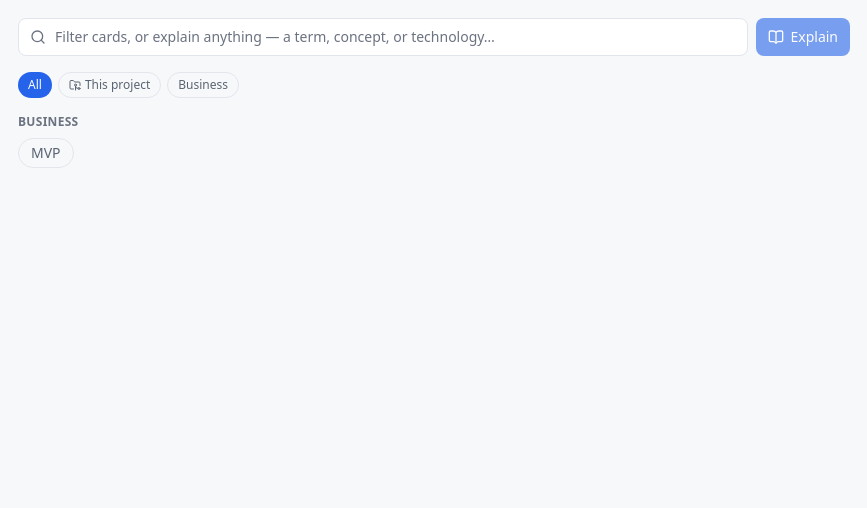
Test case: UnderstandHub › explains a cold term and shows the new card
Expected: the button "MVP" is shown, [18,138,74,168]
Type "Bloom filter" into the field with placeholder "explain anything".
click(383, 37); type("Bloom filter")  # box [18,18,748,56]
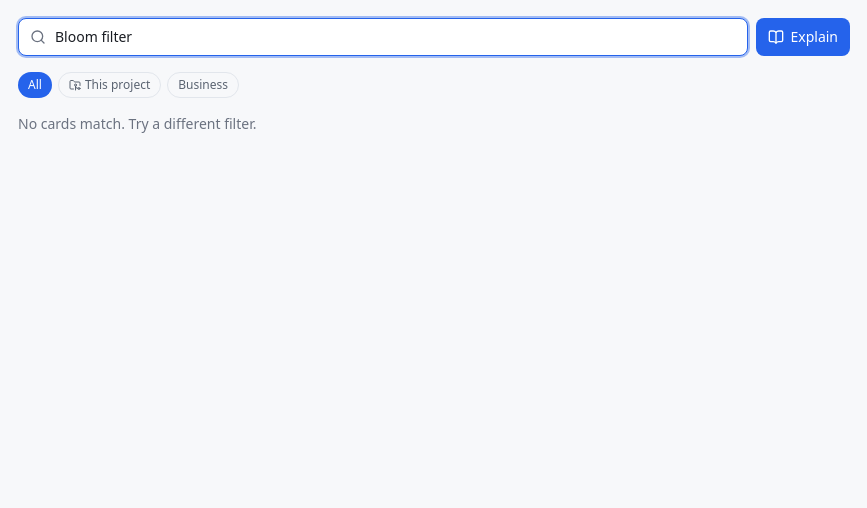
Click the button "Explain".
click(803, 37)  # box [756,18,850,56]
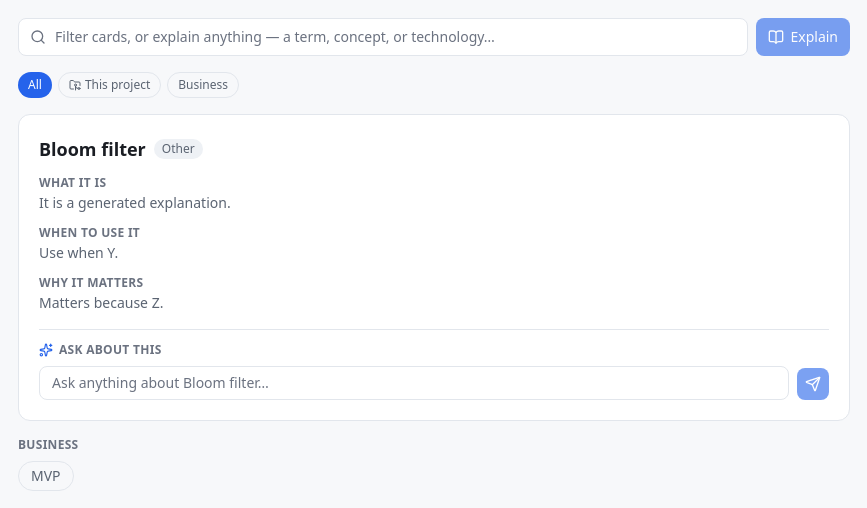
Now the text "It is a generated explanation." is shown, box [39,193,231,212]
